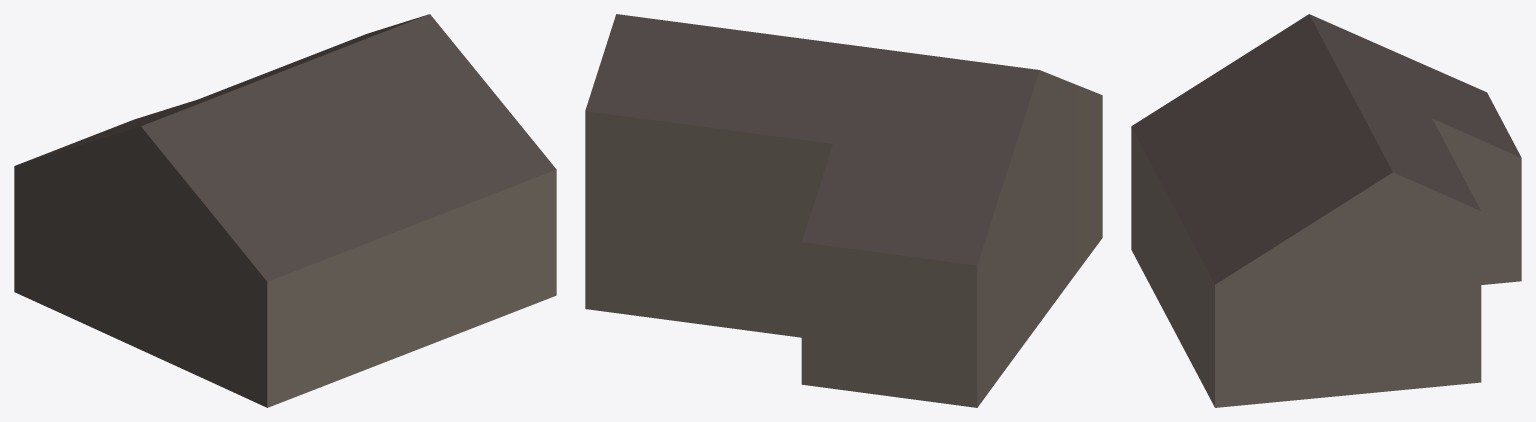
3 views of the same model, side by side, from view 1: azimuth 30°, elevation 25°; view 2: azimuth 150°, elevation 25°; view 3: azimuth 270°, elevation 25° (orthographic). The views are drawn at different scales.
Visible parts, largest first — view 1: HP-w1200750013; view 2: HP-w1200750013; view 3: HP-w1200750013.
Part boxes in pixels (x1,y1,x2,y2): HP-w1200750013: (14, 14, 556, 407); HP-w1200750013: (585, 14, 1102, 407); HP-w1200750013: (1131, 14, 1521, 407).
Bounding box in the file's own units: 20.1 × 10.65 × 17.24.
